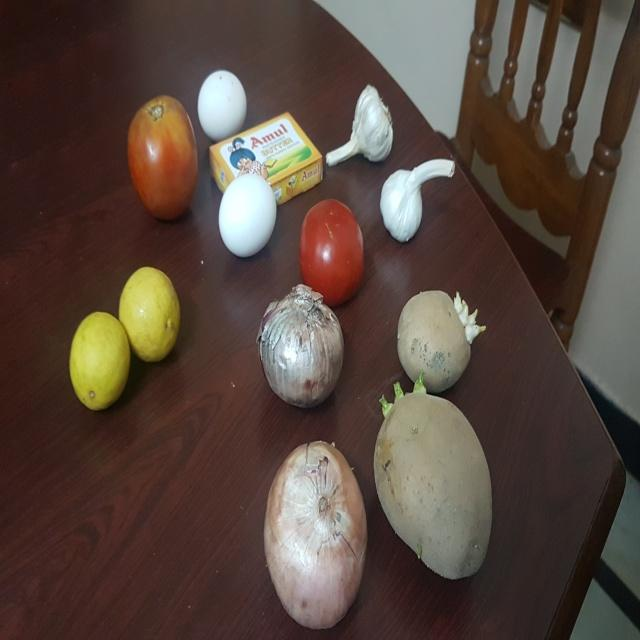butter: (208, 109, 324, 214)
eggs: (212, 170, 283, 259), (194, 65, 255, 147)
garlic: (377, 155, 454, 242), (323, 80, 395, 170)
lemon: (68, 309, 133, 406), (118, 265, 180, 362)
onion: (262, 441, 368, 626), (256, 286, 351, 409)
potato: (371, 378, 500, 582), (394, 287, 487, 396)
tomato: (118, 92, 203, 223), (297, 191, 370, 309)
